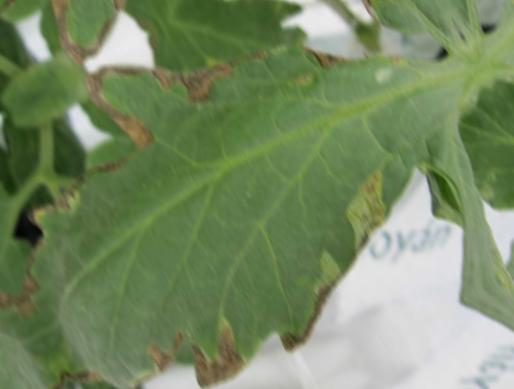Tomato leaf bacterial spot: (0, 0, 514, 389), (300, 0, 477, 109)
